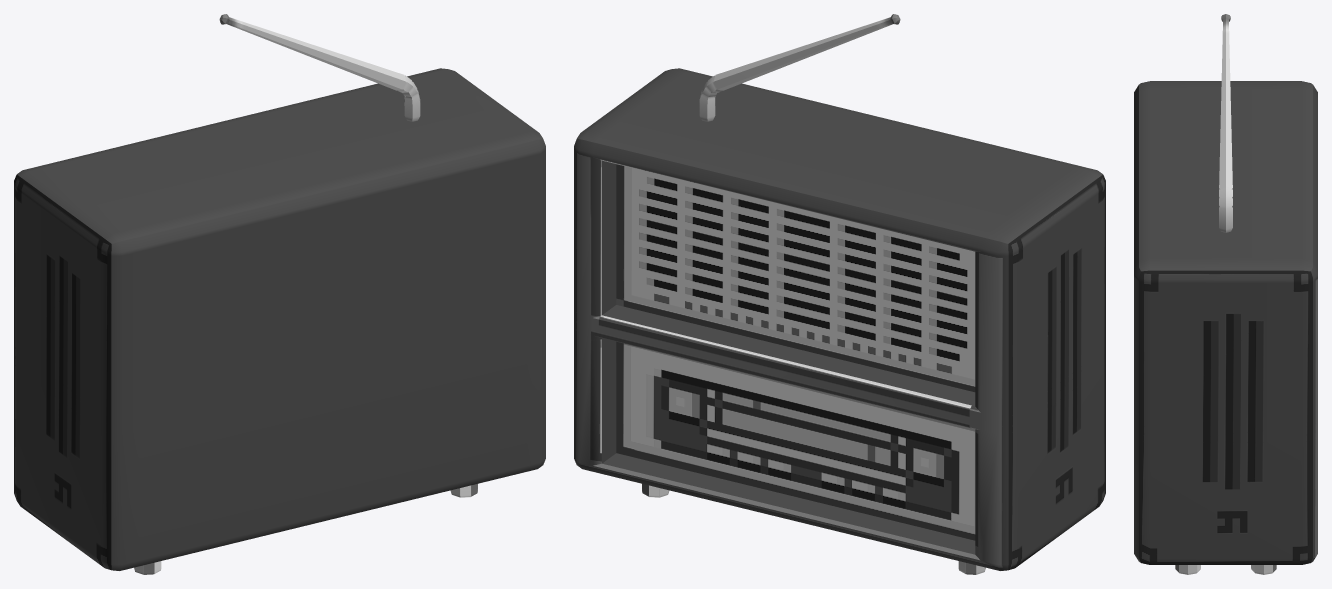
Rendered from Radio_PixelArt.fbx.
3 renders of one model, left to right at view 1: azimuth 30°, elevation 25°; view 2: azimuth 150°, elevation 25°; view 3: azimuth 270°, elevation 25°, orthographic. The views are drawn at different scales.
Parts seen in each view (by area): view 1: Radio_PixelArt_00; view 2: Radio_PixelArt_00; view 3: Radio_PixelArt_00.
Part boxes in pixels (x1,y1,x2,y2): Radio_PixelArt_00: [14, 14, 545, 574]; Radio_PixelArt_00: [574, 14, 1105, 574]; Radio_PixelArt_00: [1134, 14, 1317, 574].
Size of the model in its own units: 0.4154 by 0.4638 by 0.1676.
1 material, 1 textured.
